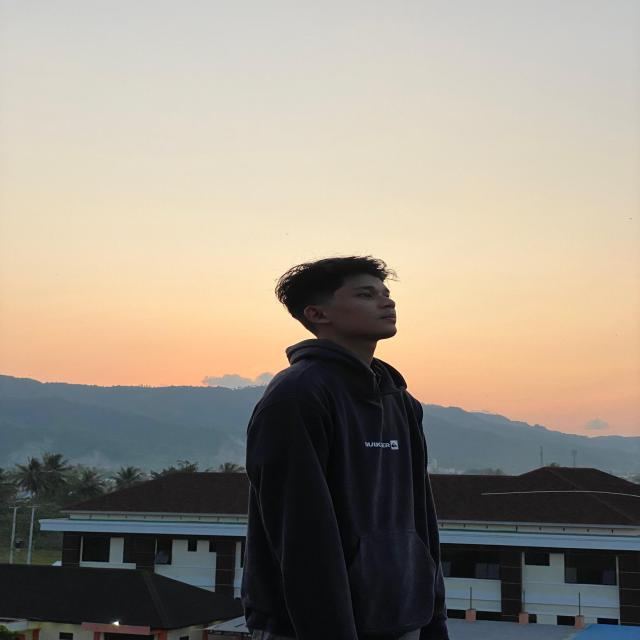nohelmet: (278, 252, 407, 348)
